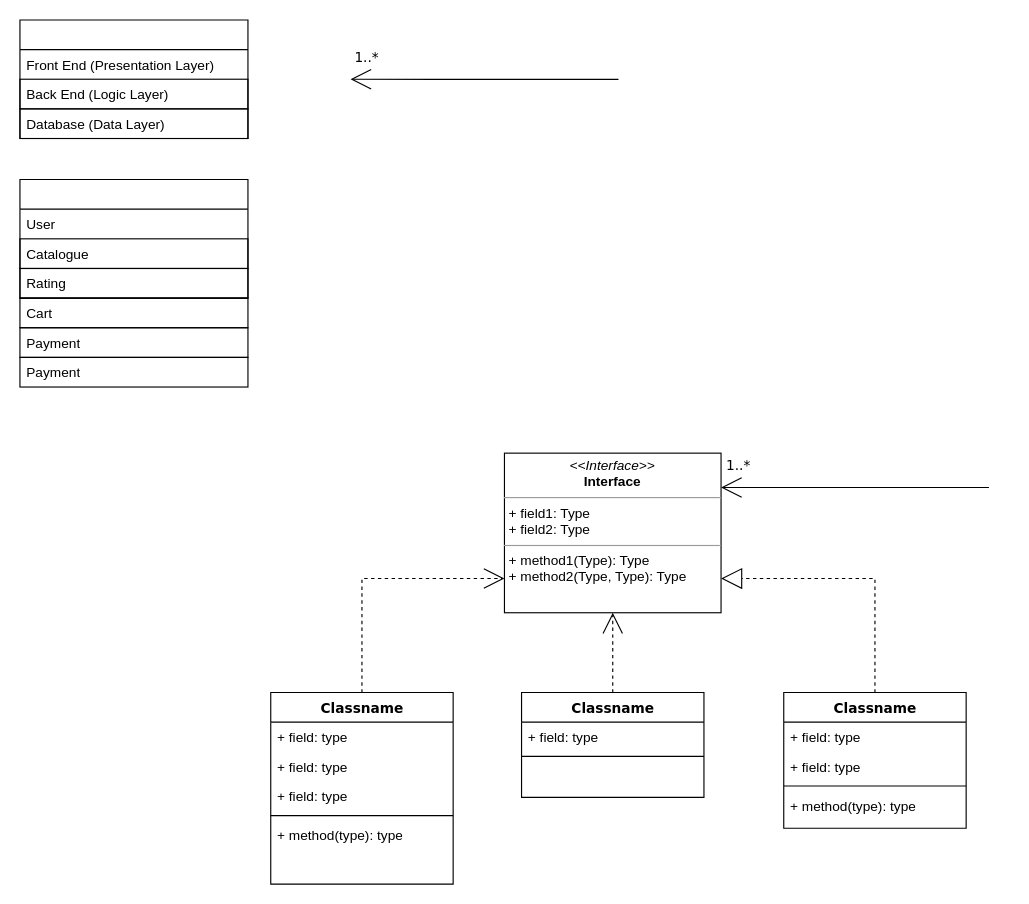
This 1029x904 diagram has some shape labels left out. The box of each missing label's shape, as (x1, y1, x2, y2) in pixels:
3 Tier Architecture: (19, 19, 248, 139)
E-commerce workflows: (19, 178, 248, 298)
